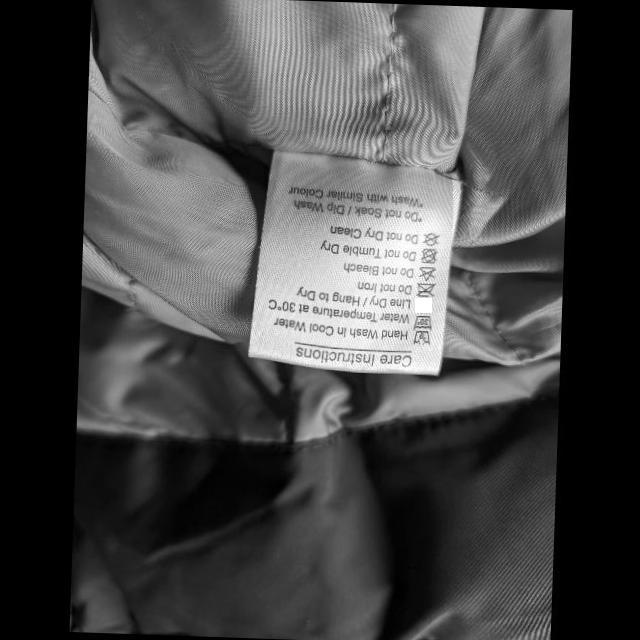30C: (412, 313, 432, 330)
DN_bleach: (416, 263, 436, 282)
DN_dry_clean: (420, 231, 440, 247)
DN_iron: (414, 280, 436, 297)
DN_tumble_dry: (419, 246, 438, 263)
hand_wash: (412, 329, 432, 346)
